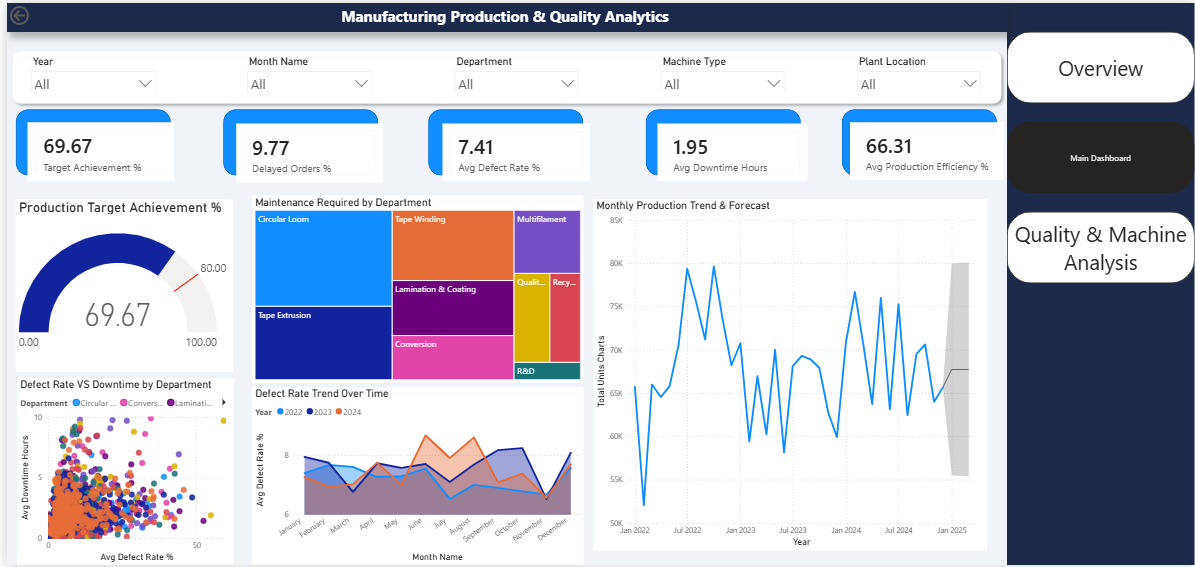

This screenshot's page, from the dashboard's own definition file:
{"tool":"powerbi","page":{"name":"Main Dashboard","canvas":[1900,900],"ordinal":1},"visuals":[{"type":"shape","box":[1600,0,300,900],"z":500},{"type":"shape","box":[1336,170,248,106],"z":1000},{"type":"shape","box":[1022,170,248,106],"z":2000},{"type":"shape","box":[674,170,248,106],"z":3000},{"type":"shape","box":[346,170,248,106],"z":4000},{"type":"shape","box":[14,170,248,106],"z":5000},{"type":"shape","box":[0,68,1600,102],"z":6000},{"type":"textbox","box":[0,0,1600,46],"z":7000},{"type":"cardVisual","fields":{"Data":["Measure.Avg Defect Rate %"]},"box":[692,188,246,102],"z":8000},{"type":"cardVisual","fields":{"Data":["Measure.Avg Production Efficiency %"]},"box":[1344,186,256,102],"z":9000},{"type":"cardVisual","fields":{"Data":["Measure.Avg Downtime Hours"]},"box":[1036,188,250,102],"z":10000},{"type":"slicer","fields":{"Values":["Lohia_Corp_Data.Year"]},"box":[28,78,220,66],"z":11000},{"type":"slicer","fields":{"Values":["Lohia_Corp_Data.Department"]},"box":[706,78,218,66],"z":12000},{"type":"slicer","fields":{"Values":["Lohia_Corp_Data.Plant Location"]},"box":[1350,78,218,66],"z":13000},{"type":"actionButton","box":[0,0,100,40],"z":14000},{"type":"cardVisual","fields":{"Data":["Measure.Target Achievement %"]},"box":[28,186,244,104],"z":15000},{"type":"cardVisual","fields":{"Data":["Measure.Delayed Orders %"]},"box":[362,188,244,104],"z":16000},{"type":"gauge","title":"Production Target Achievement %","fields":{"Y":["Measure.Target Achievement %"]},"box":[14,314,348,276],"z":17000},{"type":"slicer","fields":{"Values":["Lohia_Corp_Data.Month Name"]},"box":[374,78,220,66],"z":18000},{"type":"slicer","fields":{"Values":["Lohia_Corp_Data.Machine Type"]},"box":[1036,78,218,66],"z":19000},{"type":"areaChart","title":"Defect Rate Trend Over Time","fields":{"Category":["Lohia_Corp_Data.Month Name"],"Y":["Measure.Avg Defect Rate %"],"Series":["Lohia_Corp_Data.Year"]},"box":[391.9,614.5,530.6,285.5],"z":20000},{"type":"lineChart","title":"Monthly Production Trend & Forecast","fields":{"Y":["Measure.Total Units Charts"],"Category":["Lohia_Corp_Data.Production Date.Variation.Date Hierarchy.Year","Lohia_Corp_Data.Production Date.Variation.Date Hierarchy.Month"]},"box":[938,314,630,562],"z":21000},{"type":"scatterChart","title":"Defect Rate VS Downtime by Department","fields":{"X":["Measure.Avg Defect Rate %"],"Y":["Measure.Avg Downtime Hours"],"Series":["Lohia_Corp_Data.Department"],"Category":["Lohia_Corp_Data.Units Produced"]},"box":[16.1,600,346.8,300],"z":22000},{"type":"treemap","title":"Maintenance Required by Department","fields":{"Values":["Measure.Maintenance Count"],"Group":["Lohia_Corp_Data.Department"]},"box":[391.9,308.1,530.6,300],"z":23000},{"type":"pageNavigator","box":[1600,46,300,404],"z":24001}]}

Visuals, with their boxes on the page's 1900x900 design canvas (x1, y1, x2, y2). These are canvas units, not pixel positions in the 1195x567 screenshot, which may show the page scaled, cropped or inside an application window:
shape: rect(1600, 0, 1900, 900)
shape: rect(1336, 170, 1584, 276)
shape: rect(1022, 170, 1270, 276)
shape: rect(674, 170, 922, 276)
shape: rect(346, 170, 594, 276)
shape: rect(14, 170, 262, 276)
shape: rect(0, 68, 1600, 170)
textbox: rect(0, 0, 1600, 46)
cardVisual - Measure.Avg Defect Rate %: rect(692, 188, 938, 290)
cardVisual - Measure.Avg Production Efficiency %: rect(1344, 186, 1600, 288)
cardVisual - Measure.Avg Downtime Hours: rect(1036, 188, 1286, 290)
slicer - Lohia_Corp_Data.Year: rect(28, 78, 248, 144)
slicer - Lohia_Corp_Data.Department: rect(706, 78, 924, 144)
slicer - Lohia_Corp_Data.Plant Location: rect(1350, 78, 1568, 144)
actionButton: rect(0, 0, 100, 40)
cardVisual - Measure.Target Achievement %: rect(28, 186, 272, 290)
cardVisual - Measure.Delayed Orders %: rect(362, 188, 606, 292)
"Production Target Achievement %" gauge: rect(14, 314, 362, 590)
slicer - Lohia_Corp_Data.Month Name: rect(374, 78, 594, 144)
slicer - Lohia_Corp_Data.Machine Type: rect(1036, 78, 1254, 144)
"Defect Rate Trend Over Time" areaChart: rect(392, 614, 922, 900)
"Monthly Production Trend & Forecast" lineChart: rect(938, 314, 1568, 876)
"Defect Rate VS Downtime by Department" scatterChart: rect(16, 600, 363, 900)
"Maintenance Required by Department" treemap: rect(392, 308, 922, 608)
pageNavigator: rect(1600, 46, 1900, 450)
